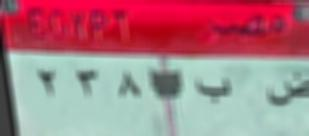2: (38, 64, 60, 100)
3: (73, 65, 104, 102)
8: (112, 68, 142, 102)
baa: (193, 72, 235, 107)
daad: (264, 70, 309, 107)
